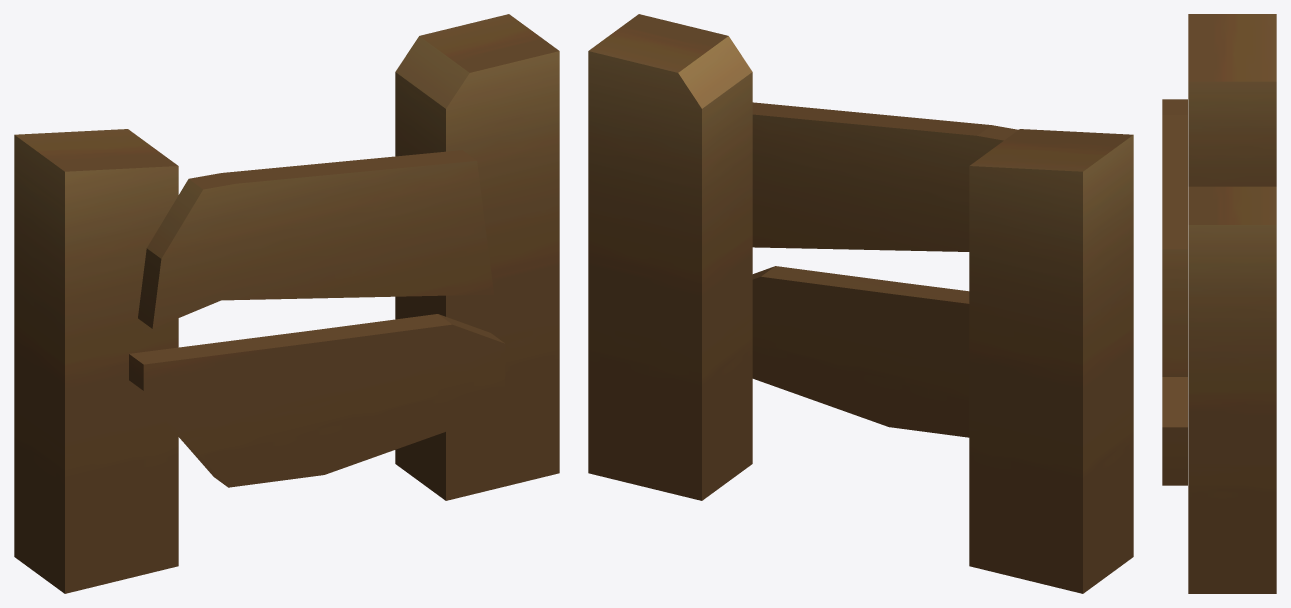
File: pack04_fences_21.fbx
3 views of the same model, side by side, from view 1: azimuth 30°, elevation 25°; view 2: azimuth 150°, elevation 25°; view 3: azimuth 270°, elevation 25° (orthographic). The views are drawn at different scales.
Visible parts, largest first — view 1: Small_Fence_08; view 2: Small_Fence_08; view 3: Small_Fence_08.
Boxes of the visible parts, <box> form: Small_Fence_08: <box>14,14,559,593</box>; Small_Fence_08: <box>588,14,1133,593</box>; Small_Fence_08: <box>1162,14,1276,593</box>.
Size of the model in its own units: 25.97 by 21.18 by 5.94.
1 material, 1 textured.
